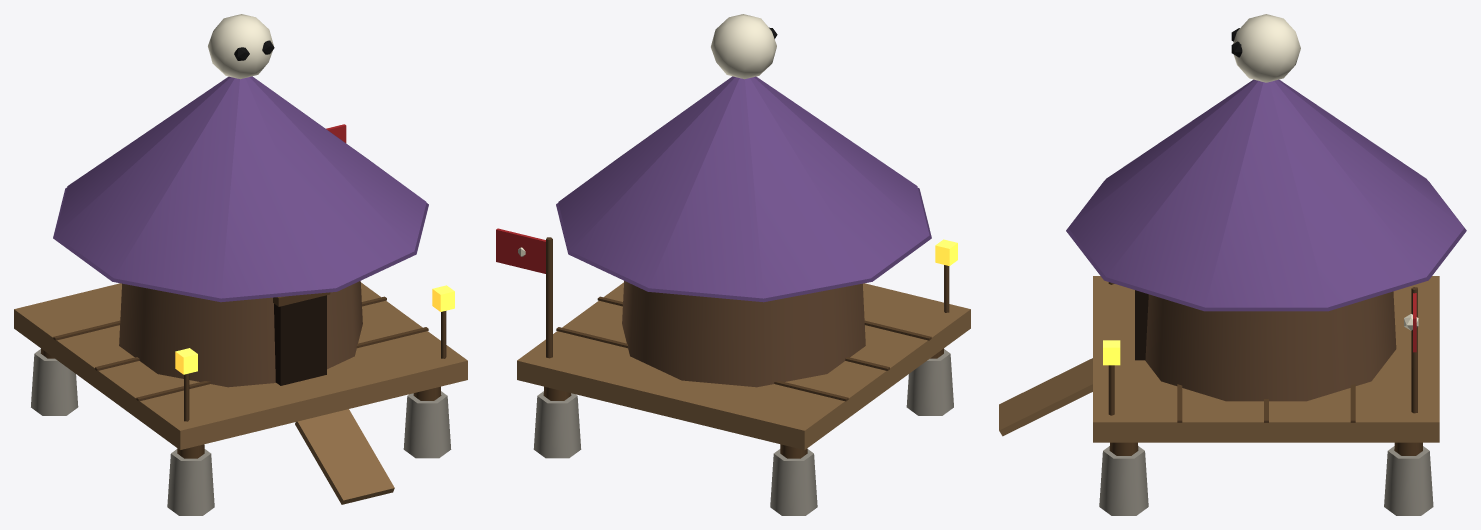
File: goblin-level2.glb
3 views of the same model, side by side, from view 1: azimuth 30°, elevation 25°; view 2: azimuth 150°, elevation 25°; view 3: azimuth 270°, elevation 25° (orthographic). The views are drawn at different scales.
Size of the model in its own units: 3.45 by 4.06 by 4.01.
